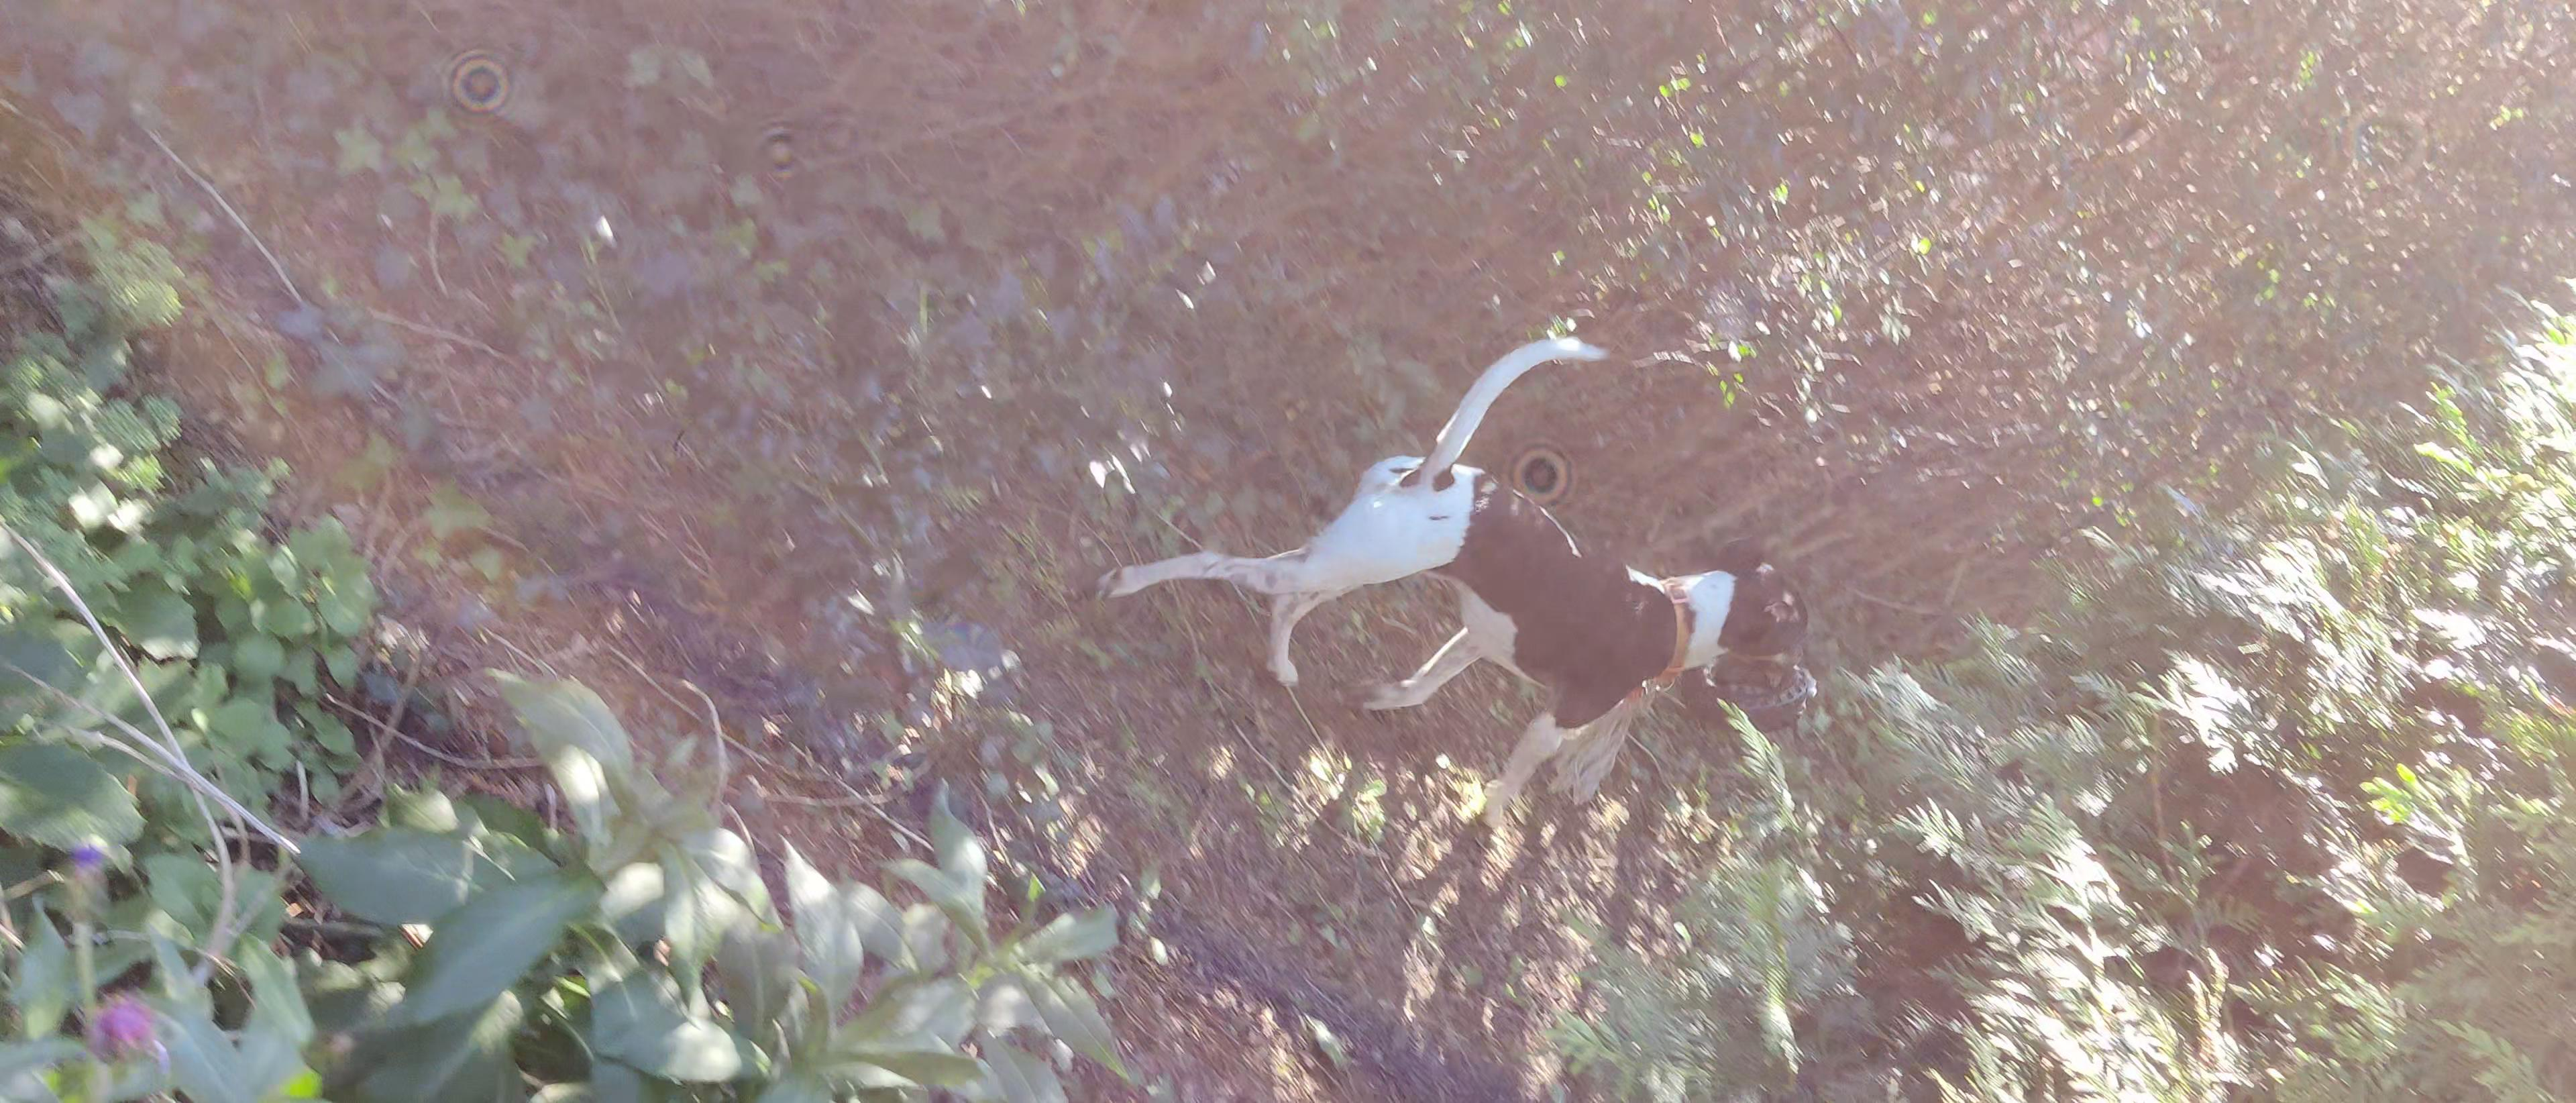Dog: (1088, 332, 1812, 833)
